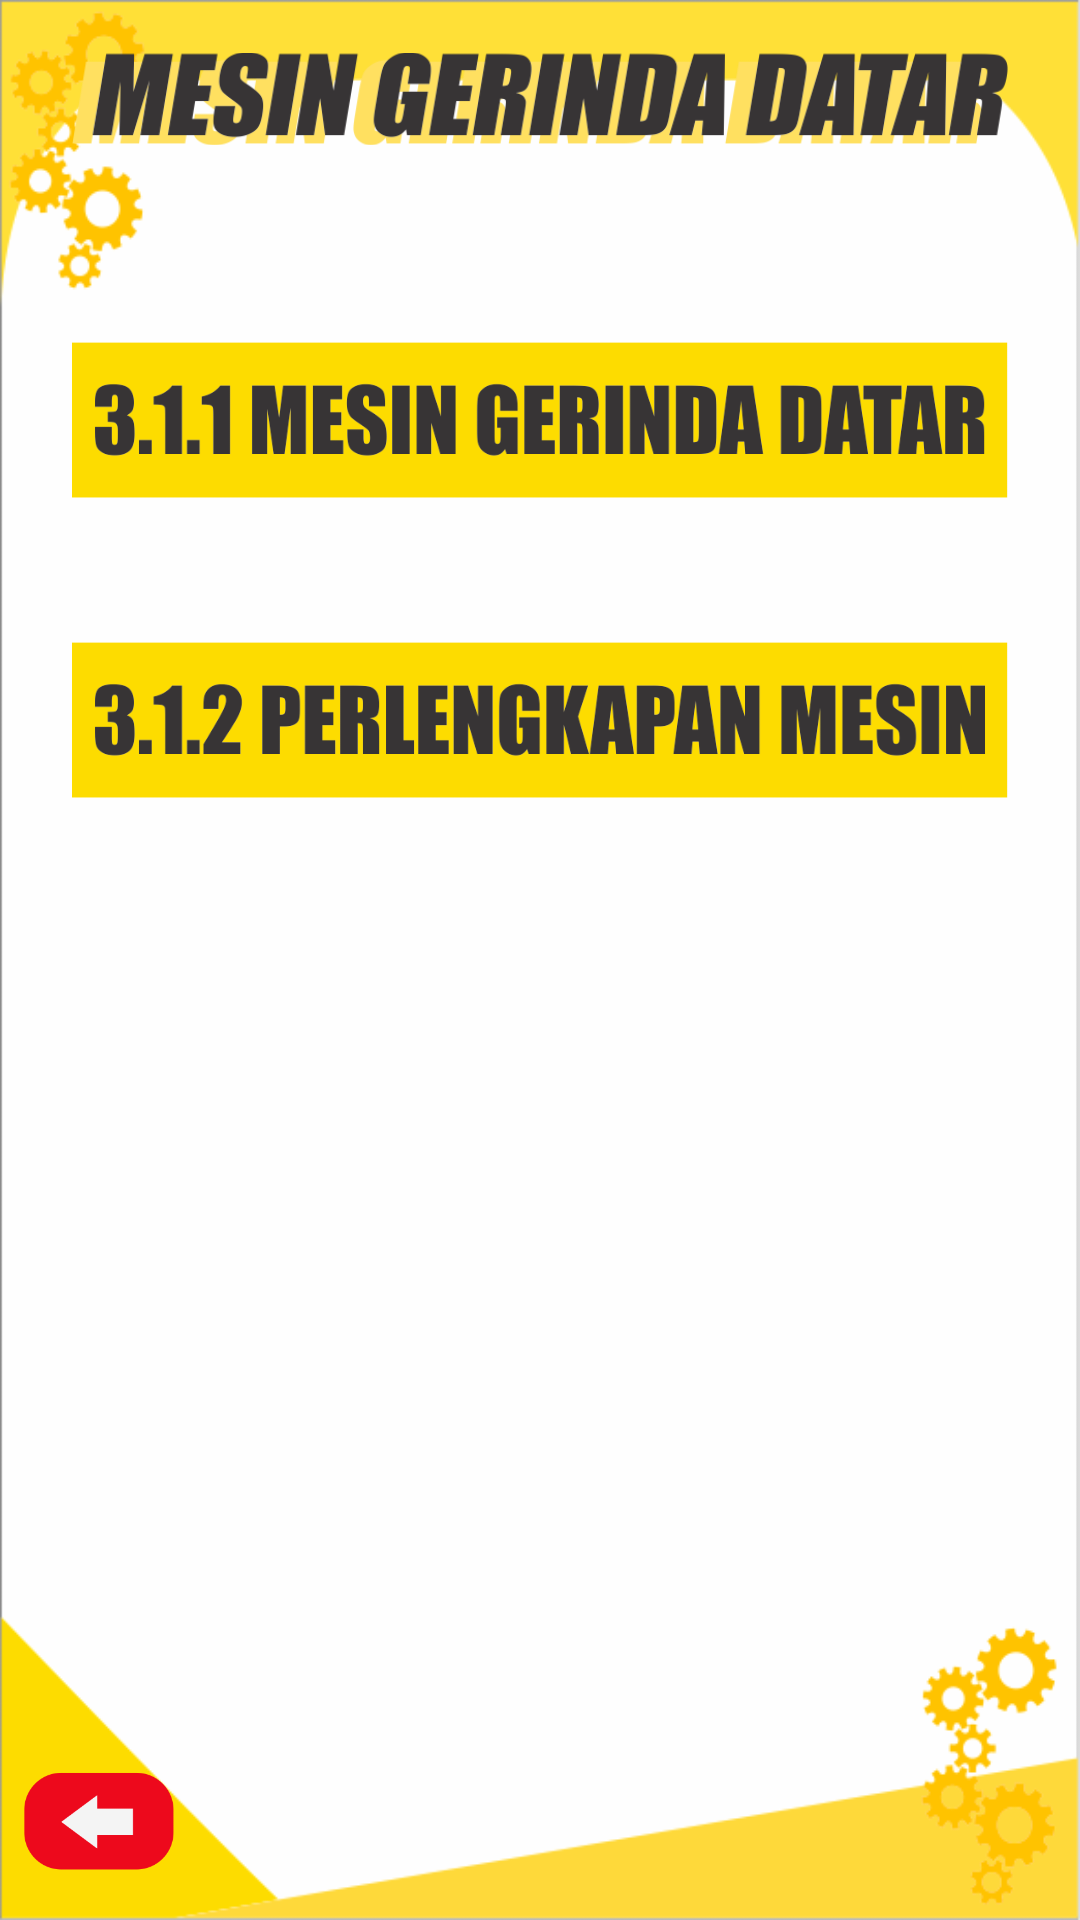

Named icons in this screenshot (1080*1920) and their bounding boxes, (x1, y1, x2, y2):
back: (24, 1746, 174, 1870)
